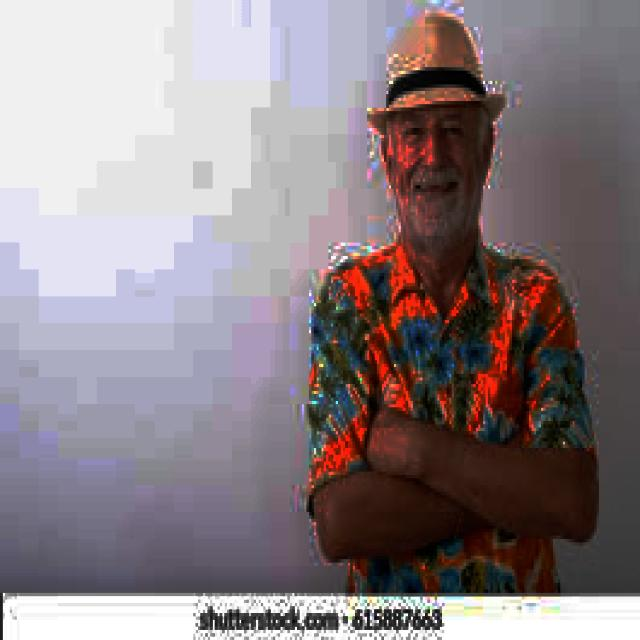TOPI: (360, 10, 507, 131)
